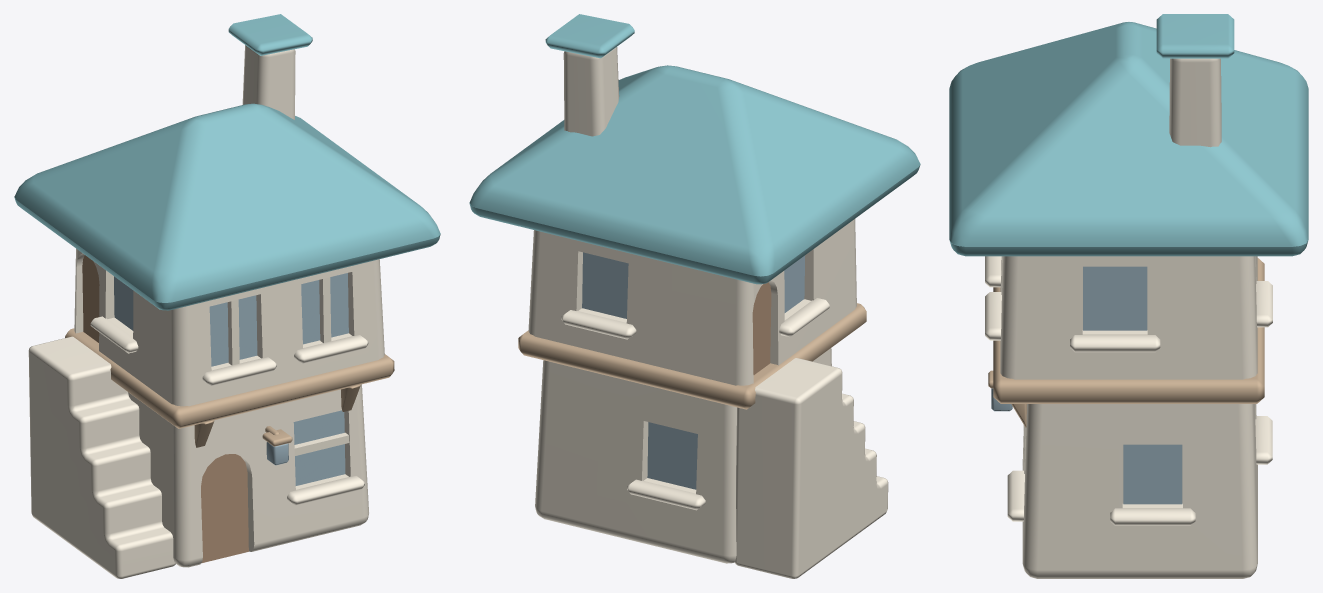
File: chunky_tall.glb
3 views of the same model, side by side, from view 1: azimuth 30°, elevation 25°; view 2: azimuth 150°, elevation 25°; view 3: azimuth 270°, elevation 25° (orthographic). The views are drawn at different scales.
Parts seen in each view (by area): view 1: chunky_tall; view 2: chunky_tall; view 3: chunky_tall.
Boxes of the visible parts, x1,y1,x2,y2 form: chunky_tall: (14, 14, 440, 578); chunky_tall: (469, 14, 920, 578); chunky_tall: (949, 14, 1308, 578).
Bounding box in the file's own units: 1.6 × 2.37 × 1.43.
